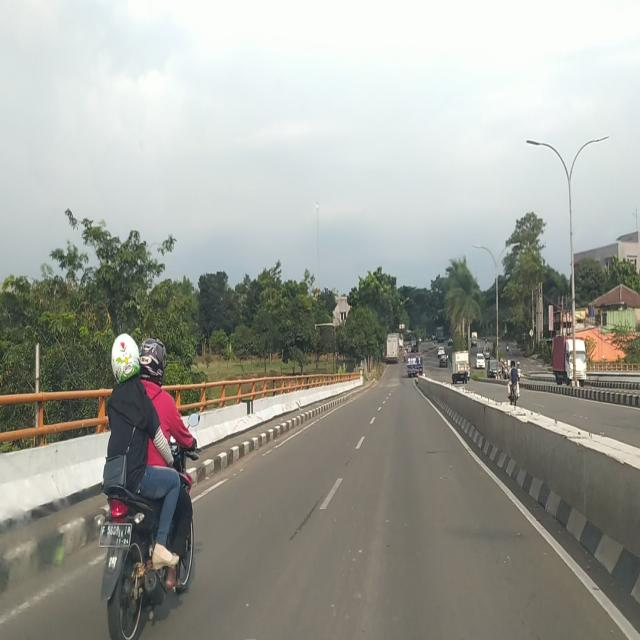Sewer Cover: (424, 448, 460, 456)
